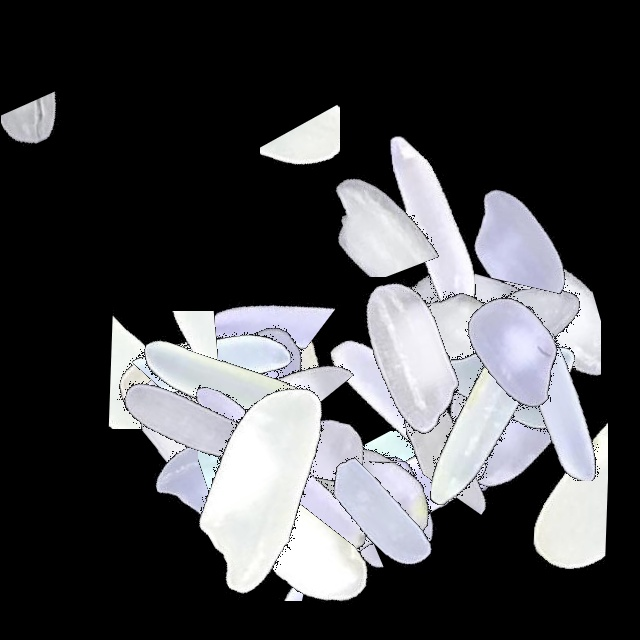Broken: (105, 255, 355, 421), (440, 207, 601, 457), (452, 80, 611, 330), (243, 119, 493, 277), (397, 290, 552, 540), (381, 333, 631, 481), (130, 489, 380, 636), (127, 312, 268, 562), (131, 226, 381, 366), (137, 299, 387, 430), (50, 299, 300, 429), (481, 352, 608, 602), (390, 324, 640, 442), (422, 248, 532, 498), (212, 349, 321, 599), (1, 23, 105, 273), (42, 311, 292, 413), (250, 461, 500, 552), (317, 378, 407, 628), (274, 431, 524, 521), (198, 326, 288, 576), (140, 511, 390, 601), (203, 505, 453, 592), (260, 46, 340, 296)
Full: (342, 182, 592, 432), (92, 252, 342, 502), (306, 99, 556, 349), (158, 390, 408, 640), (390, 293, 640, 543), (283, 293, 533, 543), (126, 252, 376, 502), (390, 204, 640, 454), (390, 308, 640, 558), (57, 311, 307, 561), (88, 349, 338, 599), (277, 367, 527, 617), (348, 213, 598, 463), (374, 265, 624, 515), (257, 376, 507, 626), (256, 365, 506, 615), (102, 262, 352, 512), (195, 352, 445, 602), (209, 388, 459, 638), (360, 279, 610, 529), (152, 347, 402, 597), (252, 390, 502, 640), (288, 232, 538, 482), (69, 300, 319, 550), (143, 361, 393, 611), (390, 225, 640, 475)
